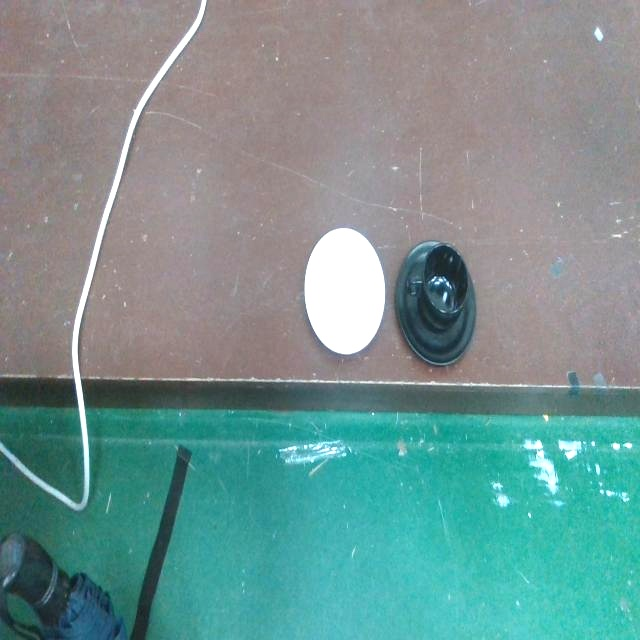black: (392, 234, 478, 371)
white: (303, 224, 386, 358)
